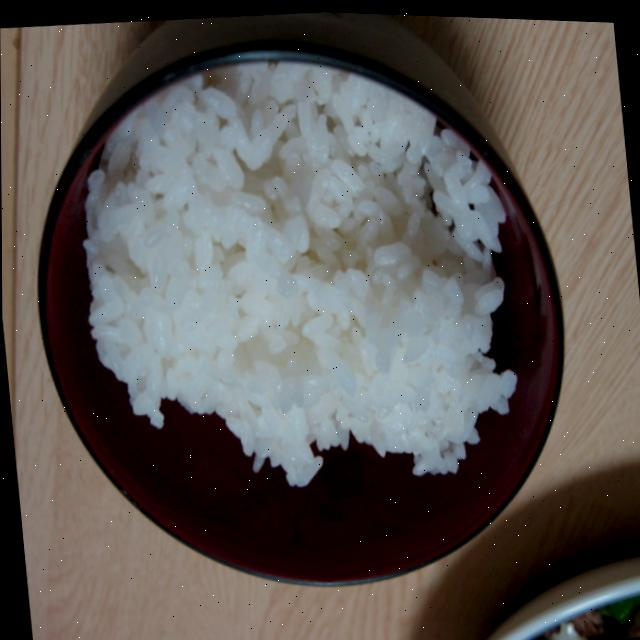米饭主食: (0, 0, 608, 624)
